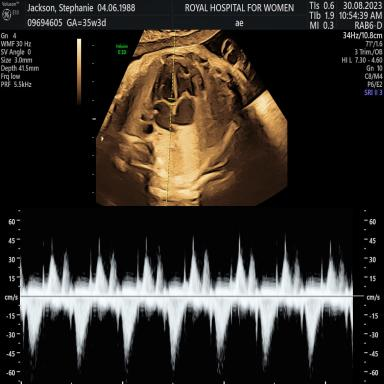Ultrasound-Waves: (26, 216, 352, 384)
